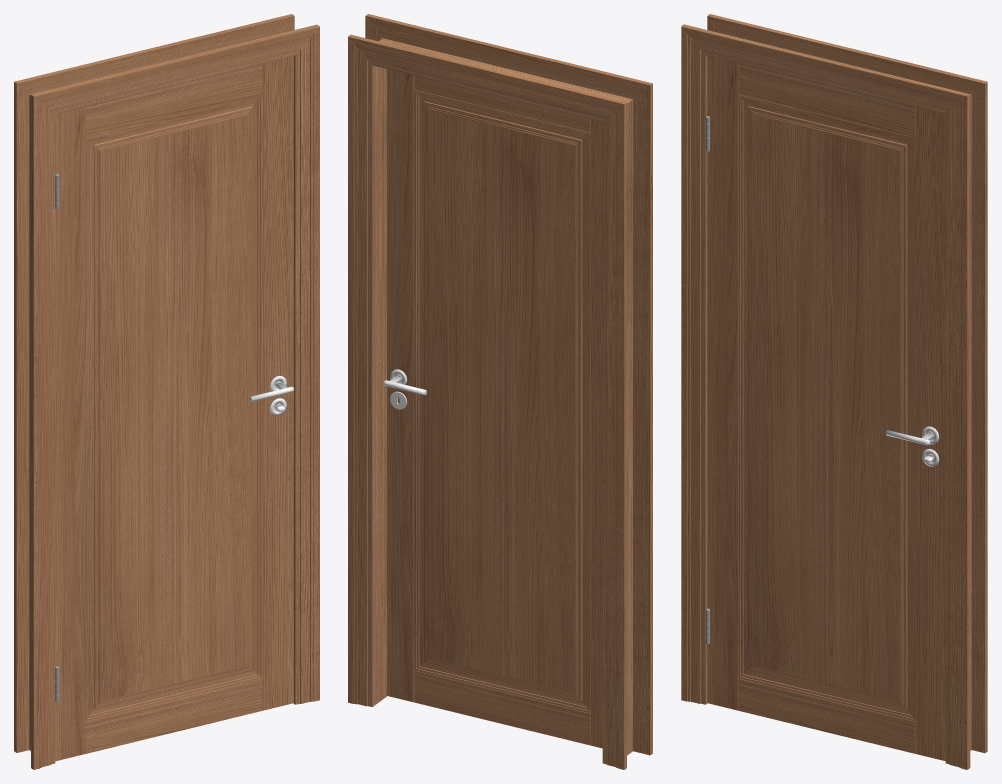
File: Door.glb
The picture shows the model from 3 angles, left to right: view 1: azimuth 30°, elevation 25°; view 2: azimuth 150°, elevation 25°; view 3: azimuth 330°, elevation 25°; orthographic projection.
Visible parts, largest first — view 1: d2, Grey_Thumbturn_Lock_Interior_3; view 2: d2, Grey_Thumbturn_Lock_Interior_3; view 3: d2, Grey_Thumbturn_Lock_Interior_3.
Boxes of the visible parts, x1=… form: d2: x1=14, y1=14, x2=319, y2=769; Grey_Thumbturn_Lock_Interior_3: x1=250, y1=375, x2=294, y2=416; d2: x1=348, y1=14, x2=652, y2=769; Grey_Thumbturn_Lock_Interior_3: x1=383, y1=369, x2=426, y2=409; d2: x1=681, y1=14, x2=987, y2=769; Grey_Thumbturn_Lock_Interior_3: x1=886, y1=426, x2=939, y2=466.
Bounding box in the file's own units: 0.9914 × 2.23 × 0.1884.
Materials: 6 (1 with a texture image).
